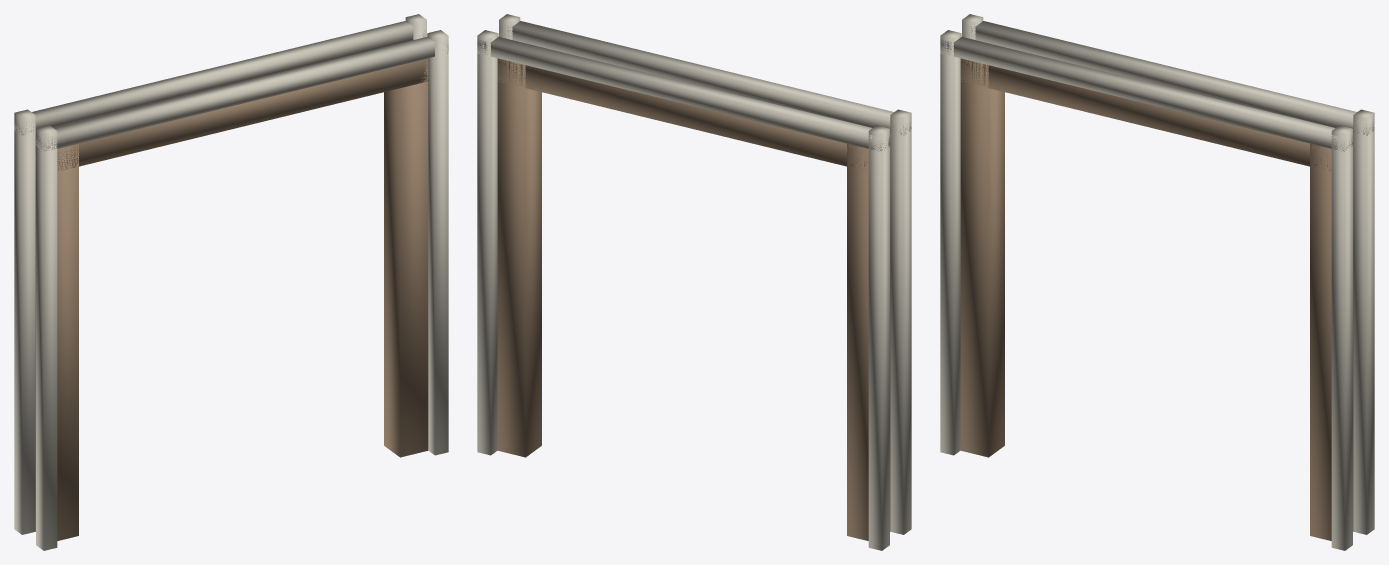
Rendered from doorway_painted_trim_w182_h200_d16.glb.
The picture shows the model from 3 angles, left to right: view 1: azimuth 30°, elevation 25°; view 2: azimuth 150°, elevation 25°; view 3: azimuth 330°, elevation 25°; orthographic projection.
Visible parts, largest first — view 1: world; view 2: world; view 3: world.
Part boxes in pixels (<box>): world: <box>14,14,448,550</box>; world: <box>477,14,911,550</box>; world: <box>940,14,1374,550</box>.
Size of the model in its own units: 2.29 by 2.26 by 0.2906.
